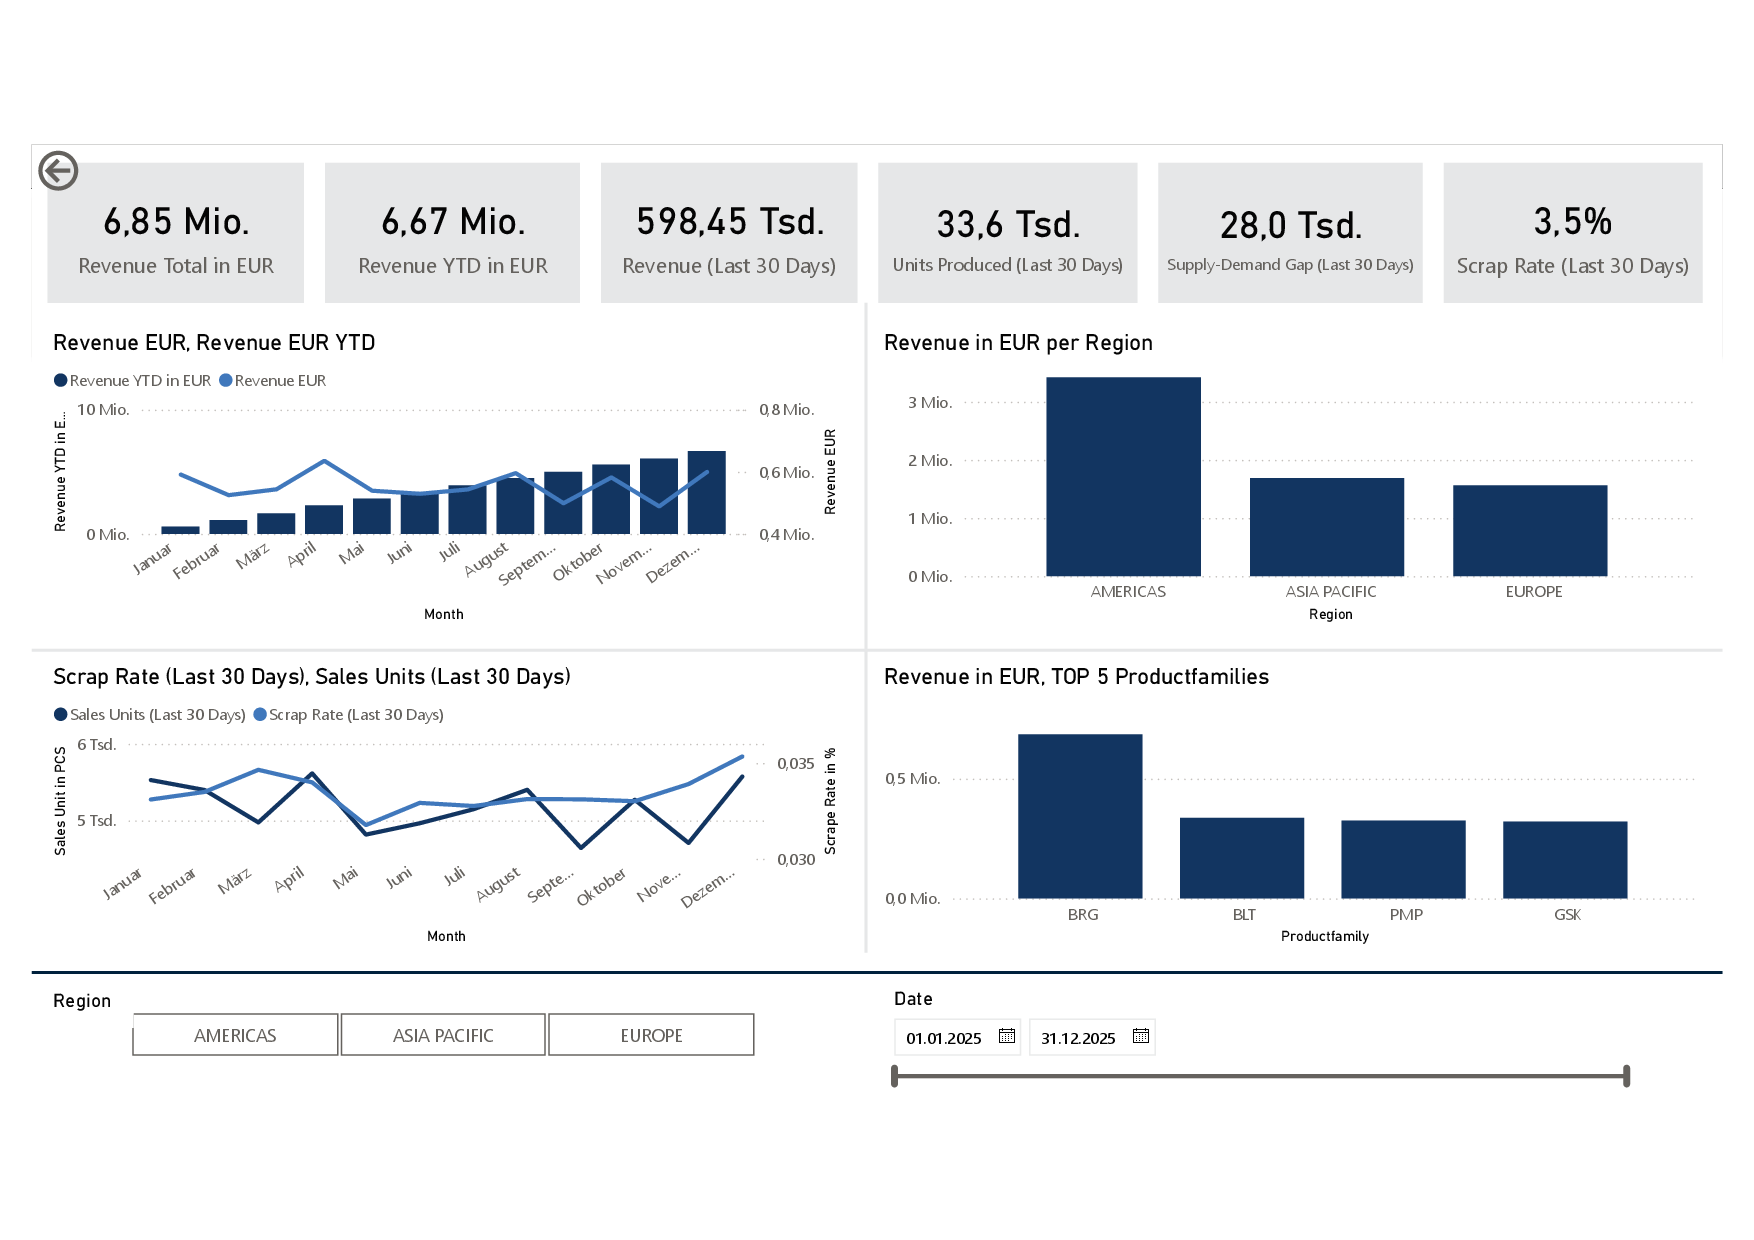

Layout of this report page (visuals, bound fields, positions):
{"tool":"powerbi","page":{"name":"Seite 1","canvas":[1280,720],"ordinal":0},"visuals":[{"type":"shape","box":[400,120,463.3,491.7],"z":0},{"type":"shape","box":[0,232.9,1280,300],"z":1000},{"type":"card","fields":{"Values":["core fact_sales_orders.Revenue Total"]},"box":[12.1,14.3,193.5,105.8],"z":2000},{"type":"lineStackedColumnComboChart","title":"Revenue EUR, Revenue EUR YTD ","fields":{"Category":["dim_date.Date.Variation.Datumshierarchie.Monat"],"Y":["core fact_sales_orders.Revenue EUR YTD"],"Y2":["core fact_sales_orders.Revenue EUR"]},"box":[11.1,140,604.4,226.7],"z":3000},{"type":"actionButton","box":[0,0,100,40],"z":4000},{"type":"card","fields":{"Values":["core fact_production_output.Units Produced (Last 30 Days)"]},"box":[640.6,14.3,196.5,105.8],"z":5000},{"type":"card","fields":{"Values":["core fact_sales_orders.Supply-Demand Gap (Last 30 Days)"]},"box":[853.1,14.3,199.5,105.8],"z":6000},{"type":"card","fields":{"Values":["core fact_production_output.Scrap Rate (Last 30 Days)"]},"box":[1068.7,14.3,196.5,105.8],"z":7000},{"type":"card","fields":{"Values":["core fact_sales_orders.Revenue EUR YTD"]},"box":[221.6,14.3,193.5,105.8],"z":8000},{"type":"card","fields":{"Values":["core fact_sales_orders.Revenue (Last 30 Days)"]},"box":[431.1,14.3,193.5,105.8],"z":9000},{"type":"columnChart","title":"Revenue in EUR per Region","fields":{"Category":["core dim_customer.region"],"Y":["core fact_sales_orders.Revenue EUR"]},"box":[640,140,625.6,226.7],"z":10000},{"type":"lineChart","title":"Scrap Rate (Last 30 Days), Sales Units (Last 30 Days)","fields":{"Y":["core fact_sales_orders.Sales Units (Last 30 Days)"],"Category":["dim_date.Date.Variation.Datumshierarchie.Monat"],"Y2":["core fact_production_output.Scrap Rate (Last 30 Days)"]},"box":[11.4,392.9,604.3,218.6],"z":11000},{"type":"slicer","fields":{"Values":["core dim_customer.region"]},"box":[50,651.4,521.4,45.7],"z":12000},{"type":"columnChart","title":"Revenue in EUR, TOP 5 Productfamilies","fields":{"Category":["core dim_product.product_family"],"Y":["core fact_sales_orders.Revenue EUR"]},"box":[640,392.9,625.7,218.6],"z":13000},{"type":"slicer","fields":{"Values":["dim_date.Date"]},"box":[640,634.3,582.9,81.4],"z":14000},{"type":"shape","box":[0,611.4,1280,31.4],"z":15000},{"type":"textbox","box":[9,634,66,35],"z":16000}]}

Visuals, with their boxes on the page's 1280x720 design canvas (x1, y1, x2, y2). These are canvas units, not pixel positions in the 1754x1240 screenshot, which may show the page scaled, cropped or inside an application window:
shape: <region>400, 120, 863, 612</region>
shape: <region>0, 233, 1280, 533</region>
card - core fact_sales_orders.Revenue Total: <region>12, 14, 206, 120</region>
"Revenue EUR, Revenue EUR YTD " lineStackedColumnComboChart: <region>11, 140, 616, 367</region>
actionButton: <region>0, 0, 100, 40</region>
card - core fact_production_output.Units Produced (Last 30 Days): <region>641, 14, 837, 120</region>
card - core fact_sales_orders.Supply-Demand Gap (Last 30 Days): <region>853, 14, 1053, 120</region>
card - core fact_production_output.Scrap Rate (Last 30 Days): <region>1069, 14, 1265, 120</region>
card - core fact_sales_orders.Revenue EUR YTD: <region>222, 14, 415, 120</region>
card - core fact_sales_orders.Revenue (Last 30 Days): <region>431, 14, 625, 120</region>
"Revenue in EUR per Region" columnChart: <region>640, 140, 1266, 367</region>
"Scrap Rate (Last 30 Days), Sales Units (Last 30 Days)" lineChart: <region>11, 393, 616, 612</region>
slicer - core dim_customer.region: <region>50, 651, 571, 697</region>
"Revenue in EUR, TOP 5 Productfamilies" columnChart: <region>640, 393, 1266, 612</region>
slicer - dim_date.Date: <region>640, 634, 1223, 716</region>
shape: <region>0, 611, 1280, 643</region>
textbox: <region>9, 634, 75, 669</region>
